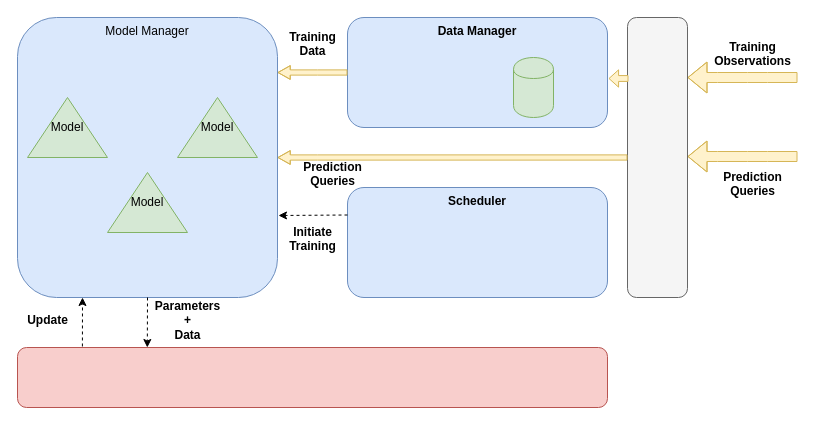
This 815x425 diagram has some shape labels left out. Here are the shapes that lost their labels. From the top down, the centre of each, then its label:
At (x=533, y=87): "Buffer".
At (x=657, y=157): "API".
At (x=312, y=377): "SGD".
